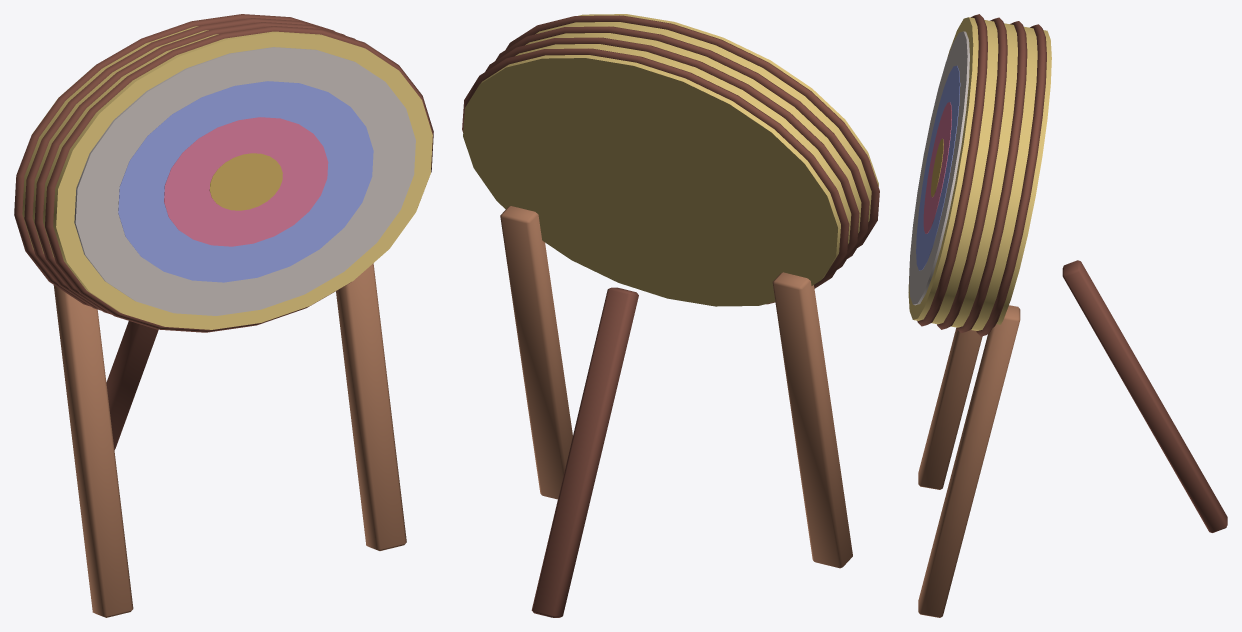
The model's file is sentry_butt.glb.
The picture shows the model from 3 angles, left to right: view 1: azimuth 30°, elevation 25°; view 2: azimuth 150°, elevation 25°; view 3: azimuth 270°, elevation 25°; orthographic projection. The views are drawn at different scales.
Parts seen in each view (by area): view 1: sentry_butt; view 2: sentry_butt; view 3: sentry_butt.
Boxes of the visible parts, x1,y1,x2,y2 form: sentry_butt: (14, 14, 433, 617); sentry_butt: (462, 14, 879, 617); sentry_butt: (908, 14, 1227, 617).
Size of what is drawn, in the model's own units: 1.35 by 1.75 by 1.
